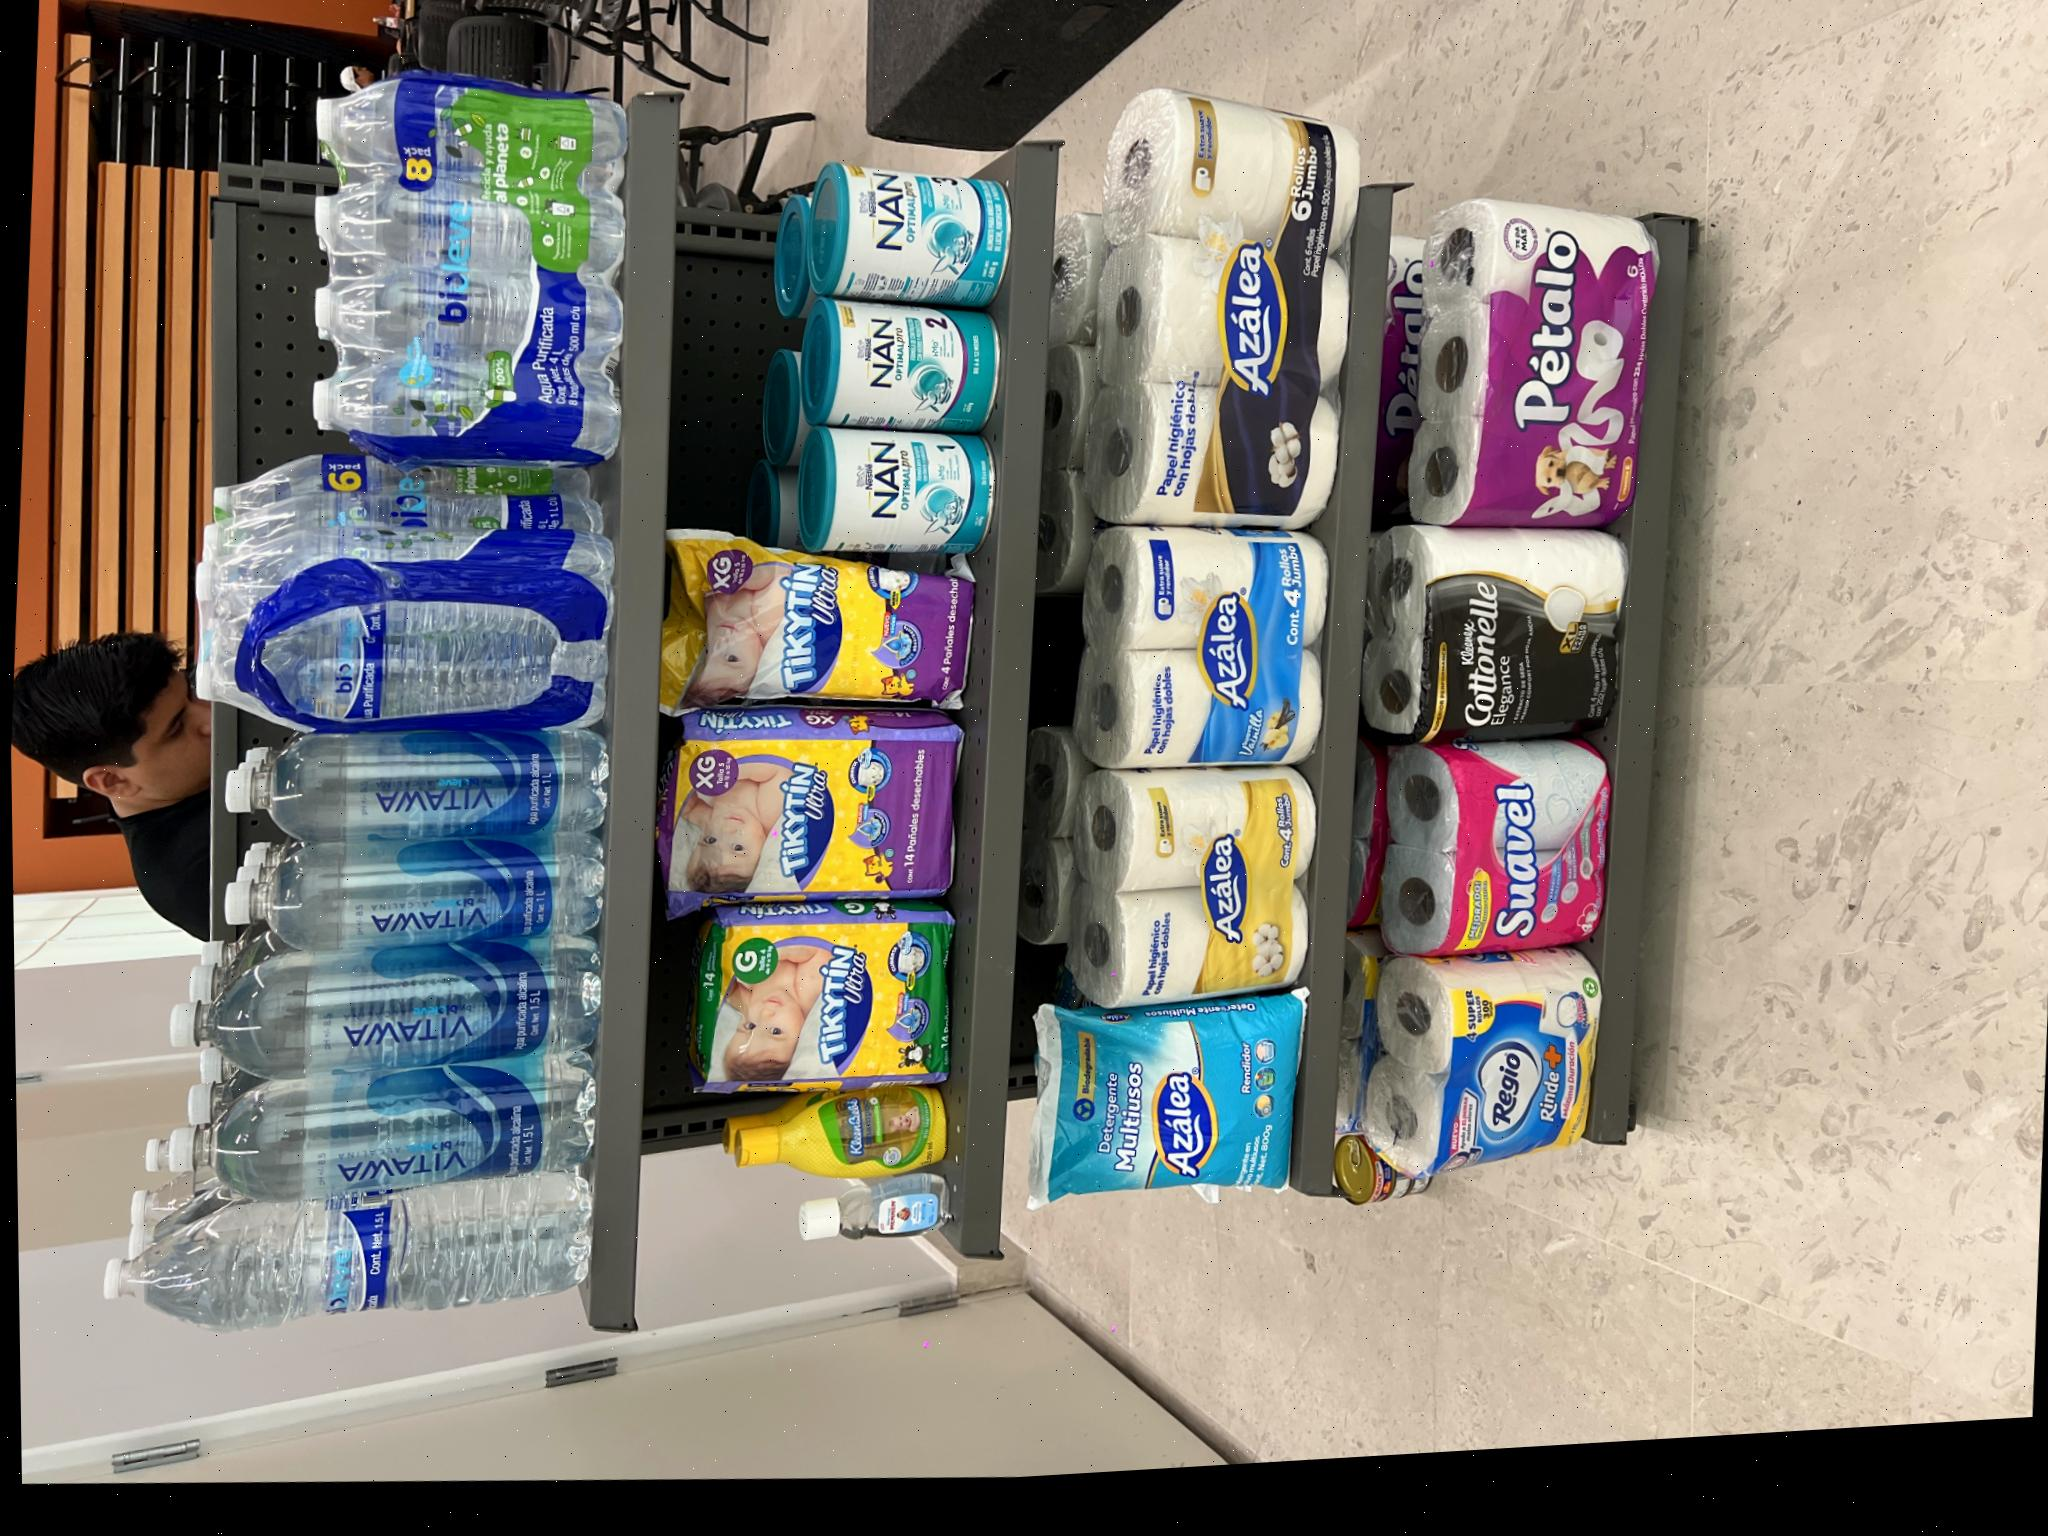aceite_bebe_mennen: (252, 795, 305, 894)
agua_bioleve: (187, 145, 335, 539)
agua_bioleve_6pack: (1051, 224, 1405, 536), (776, 123, 959, 537)
agua_vitawa_1L: (558, 224, 664, 534), (674, 231, 769, 526)
agua_vitawa_1_5L: (314, 181, 447, 539), (443, 197, 556, 539)
detergente_azaela: (281, 994, 472, 1258)
nan_nestle_1: (939, 755, 1053, 897)
nan_nestle_2: (1056, 741, 1185, 913)
nan_nestle_3: (1187, 747, 1317, 912)
panales_tikytin_extragrande: (774, 610, 963, 904), (584, 605, 774, 889)
panales_tikytin_grande: (408, 644, 572, 891)
papelhigenico_azaela_6rollos: (953, 1060, 1376, 1258)
papelhigenico_azaela_amarillo: (471, 1058, 705, 1244)
papelhigenico_azaela_azul: (710, 1062, 939, 1252)
papelhigenico_kleenex_cottonelle: (726, 1349, 926, 1478)
papelhigenico_petalo: (943, 1391, 1251, 1476)
papelhigenico_regio: (295, 1386, 487, 1481)
papelhigenico_suavel: (510, 1384, 698, 1480)
shampoo_bebe: (319, 737, 392, 887)
